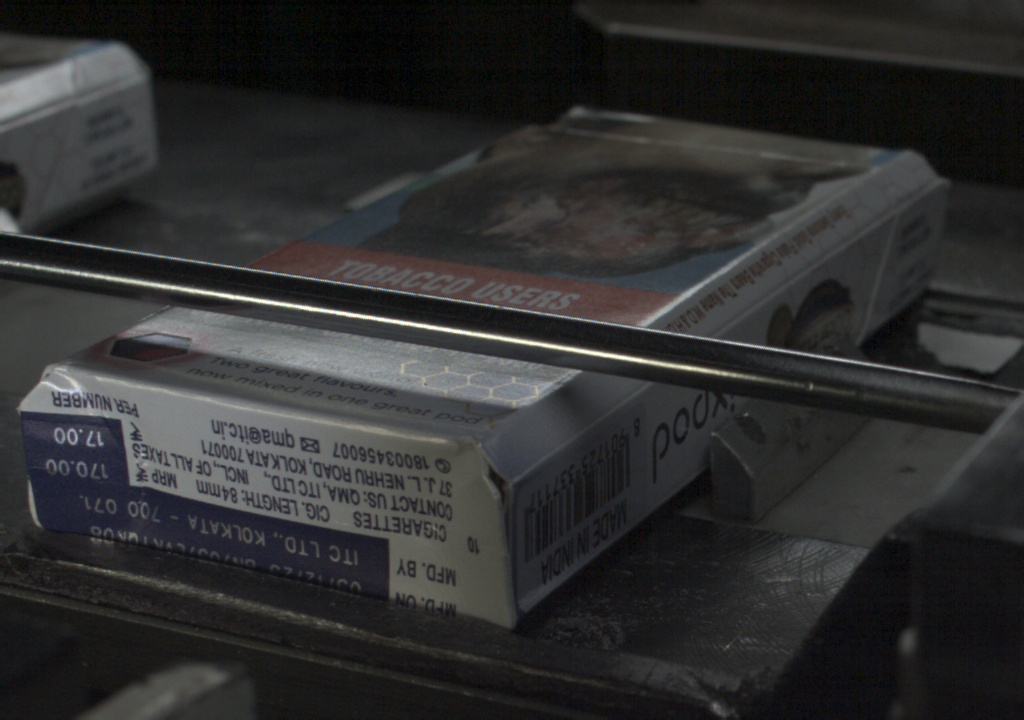g_lmiter: (797, 212, 886, 273), (709, 274, 794, 336), (512, 434, 579, 481), (579, 387, 642, 434)
g_miter: (891, 176, 943, 212)
ng_bottom: (17, 373, 129, 533), (477, 456, 510, 529)
ng_label: (31, 485, 389, 597)
price: (28, 419, 124, 485)
